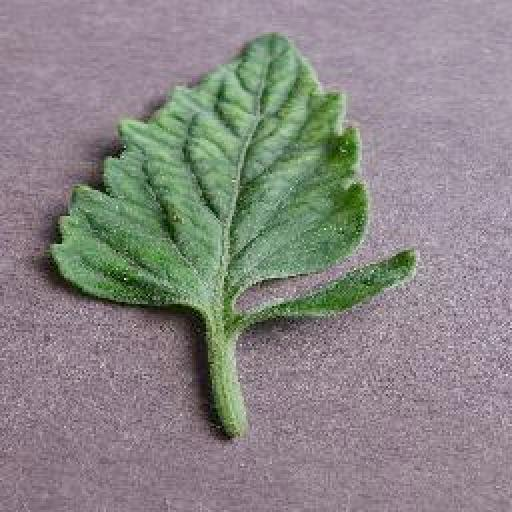Mosaic Virus: (49, 30, 423, 326)
